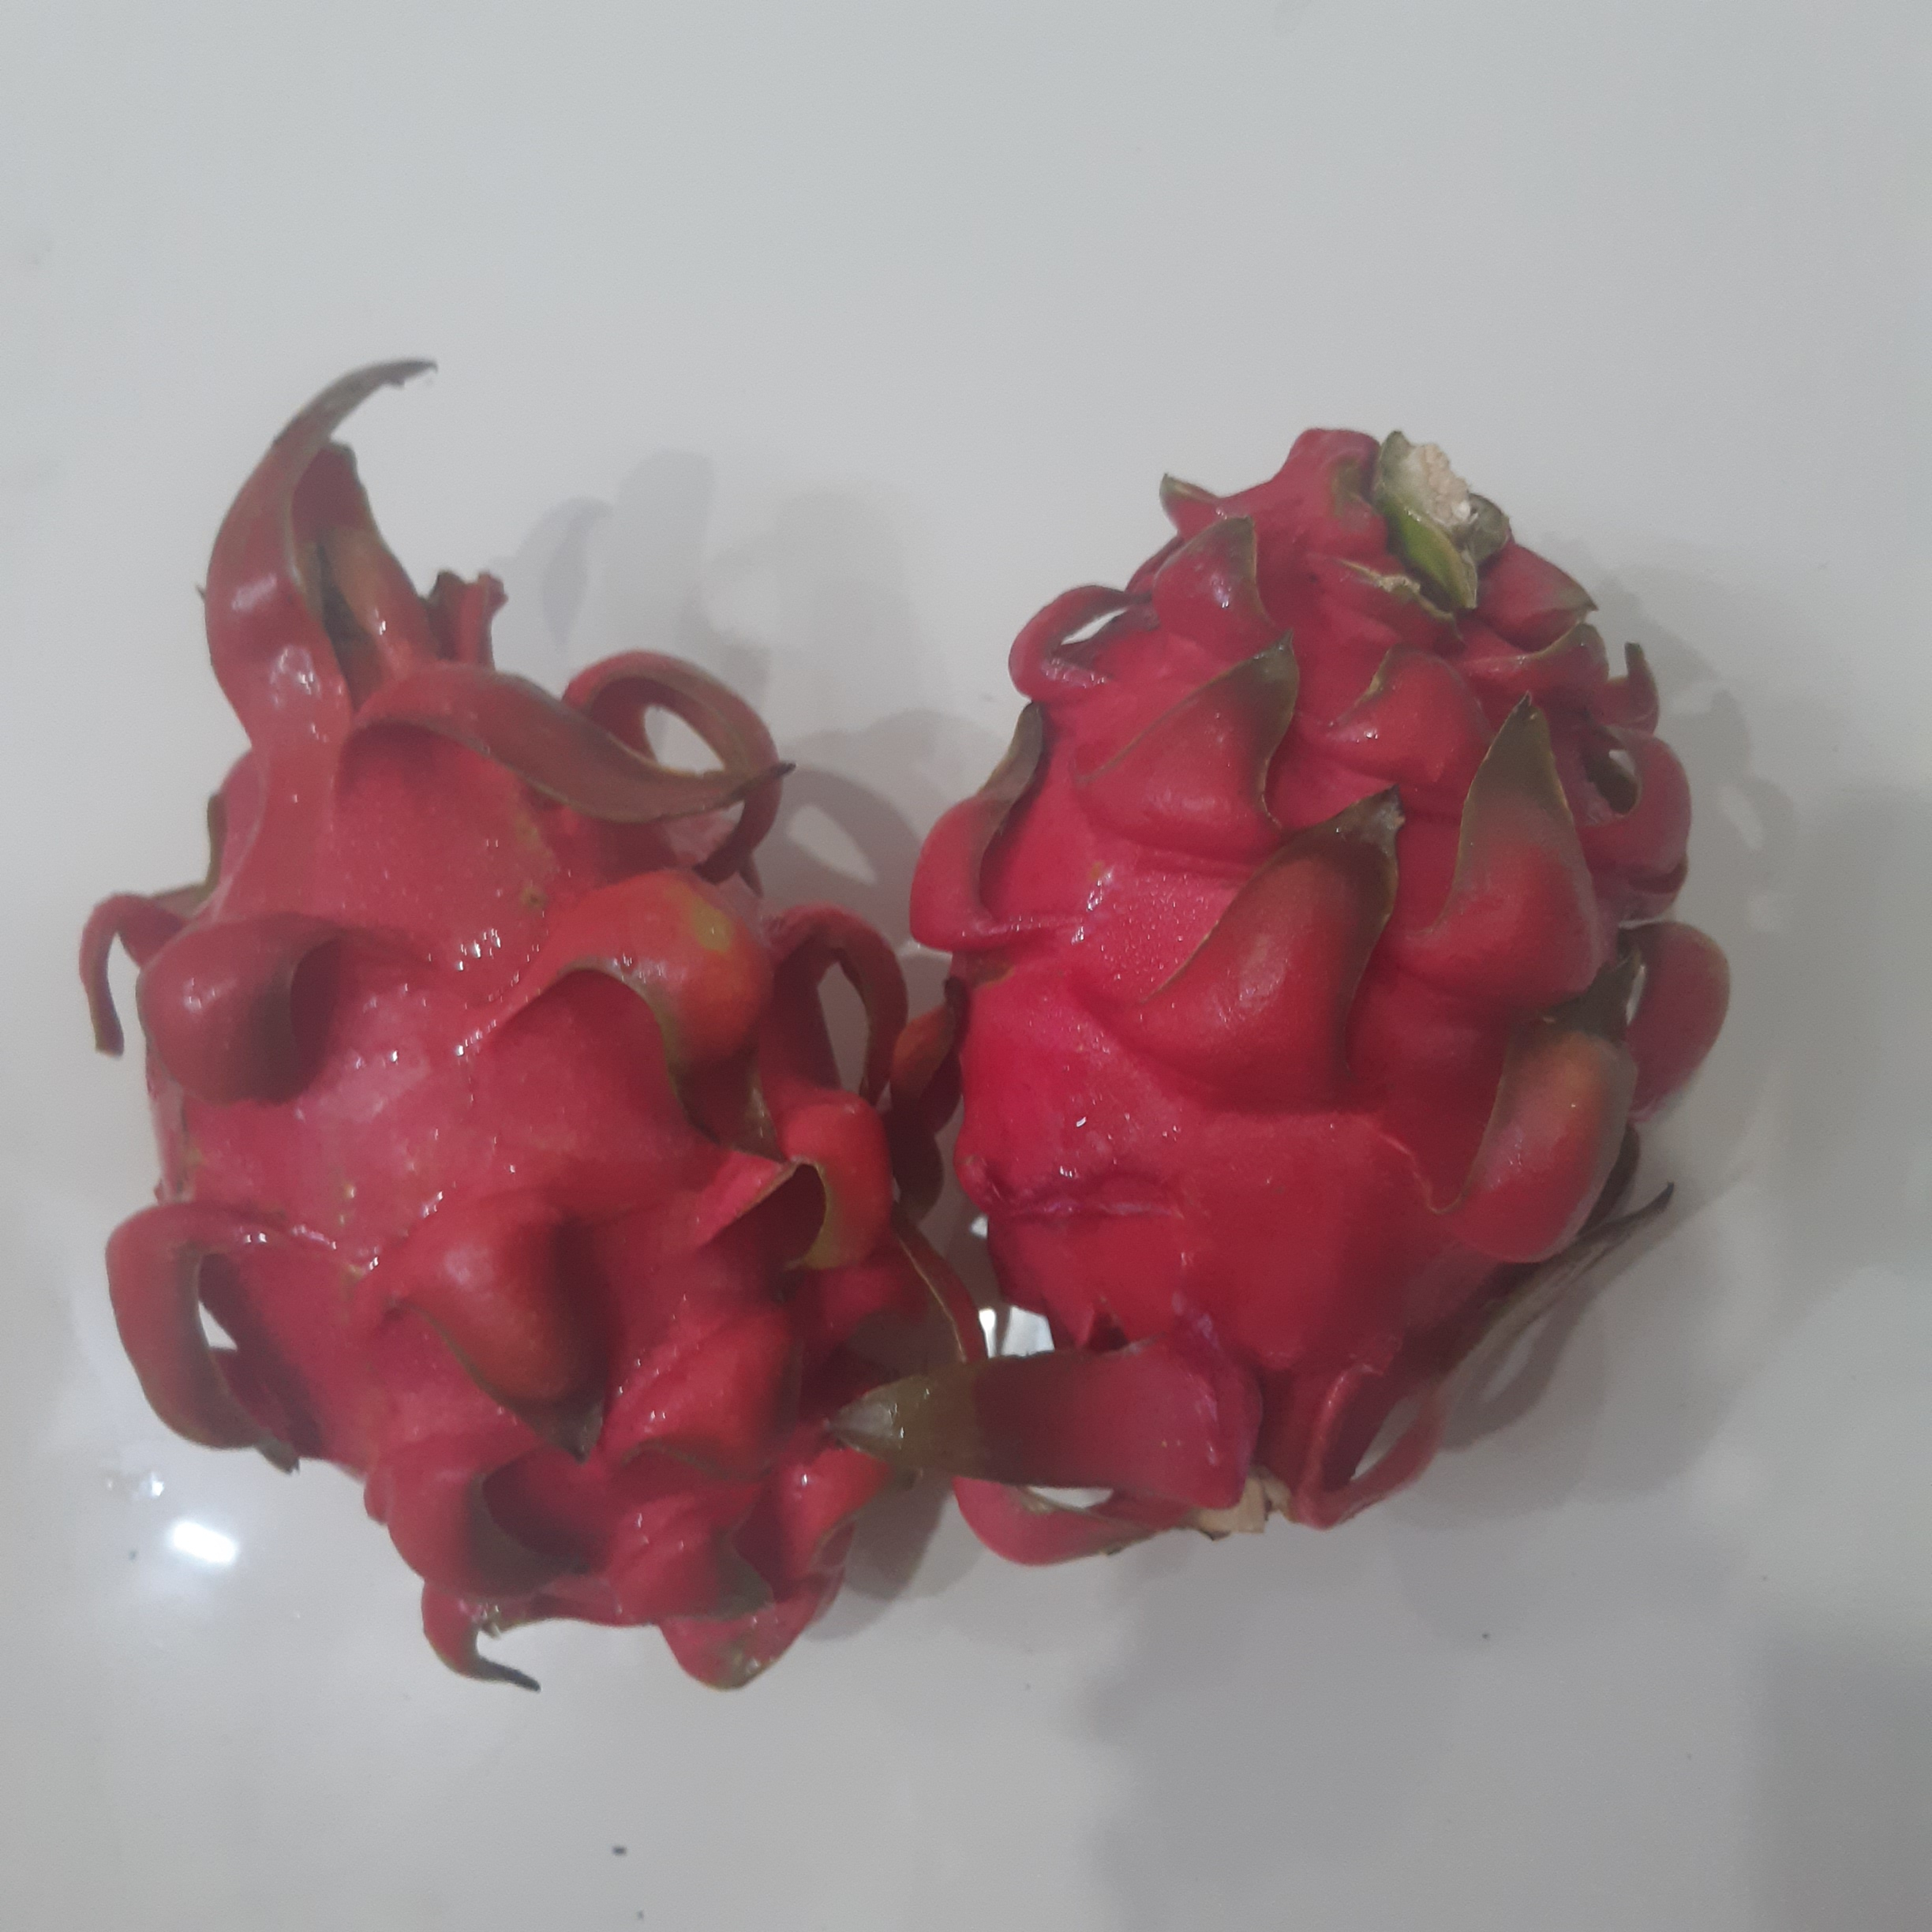Thanh long: (129, 573, 962, 1679), (938, 433, 1697, 1525)
